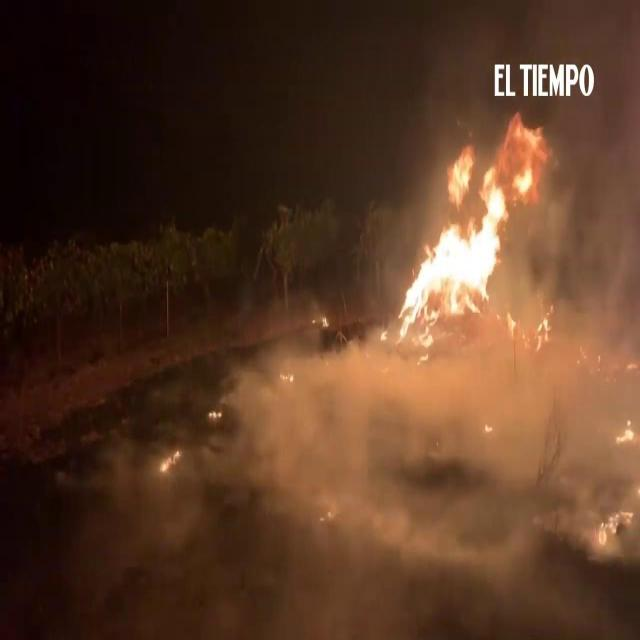Fire: (382, 114, 556, 364), (599, 509, 633, 542), (616, 419, 637, 445), (160, 449, 182, 472), (207, 407, 224, 421), (282, 369, 296, 382), (484, 421, 494, 432), (323, 315, 329, 326)
